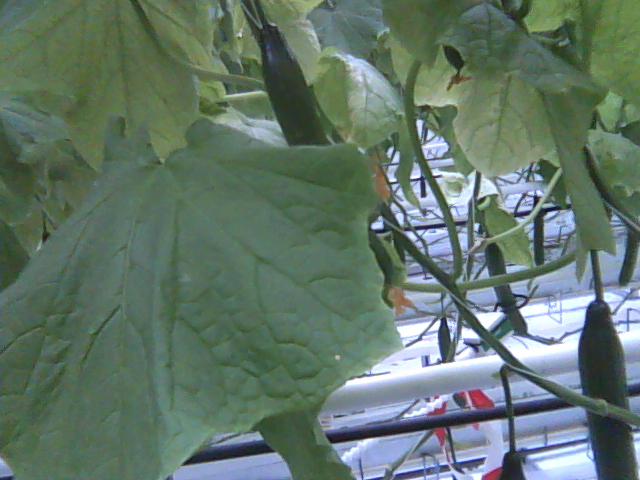concombre: (256, 16, 423, 318), (577, 297, 640, 480)
